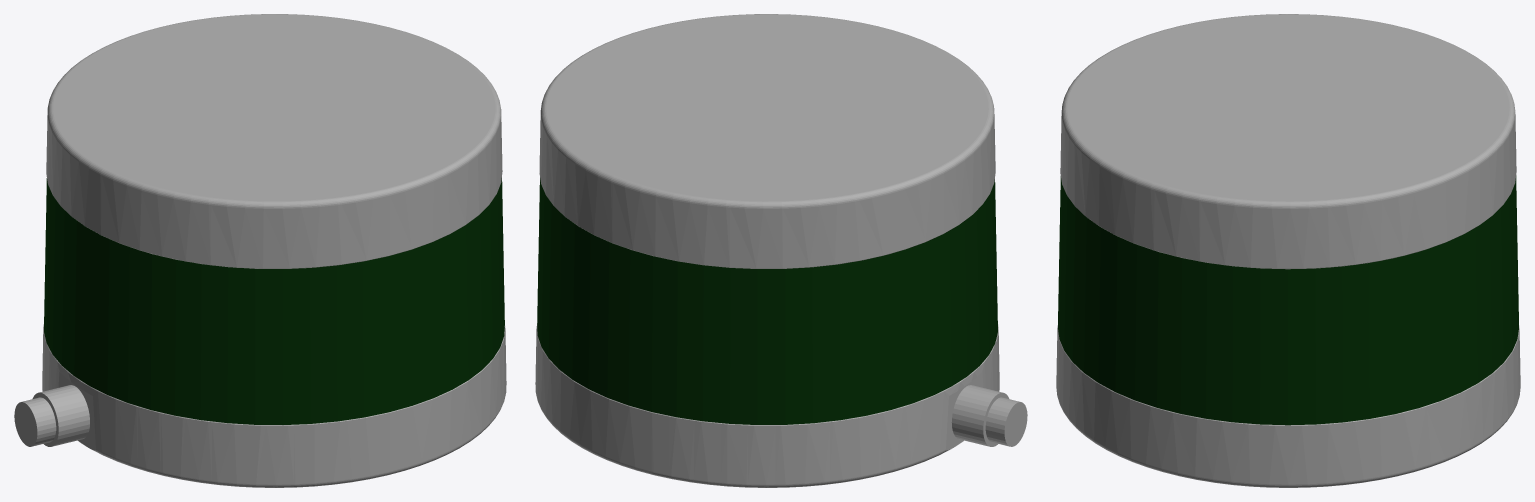
The model's file is lidar.dae.
3 views of the same model, side by side, from view 1: azimuth 30°, elevation 25°; view 2: azimuth 150°, elevation 25°; view 3: azimuth 270°, elevation 25° (orthographic).
Parts seen in each view (by area): view 1: VLP16_scan; view 2: VLP16_scan; view 3: VLP16_scan.
Boxes of the visible parts, x1,y1,x2,y2 form: VLP16_scan: [14, 14, 506, 487]; VLP16_scan: [535, 14, 1027, 487]; VLP16_scan: [1056, 14, 1520, 487].
Bounding box in the file's own units: 0.1158 × 0.1036 × 0.0698.
